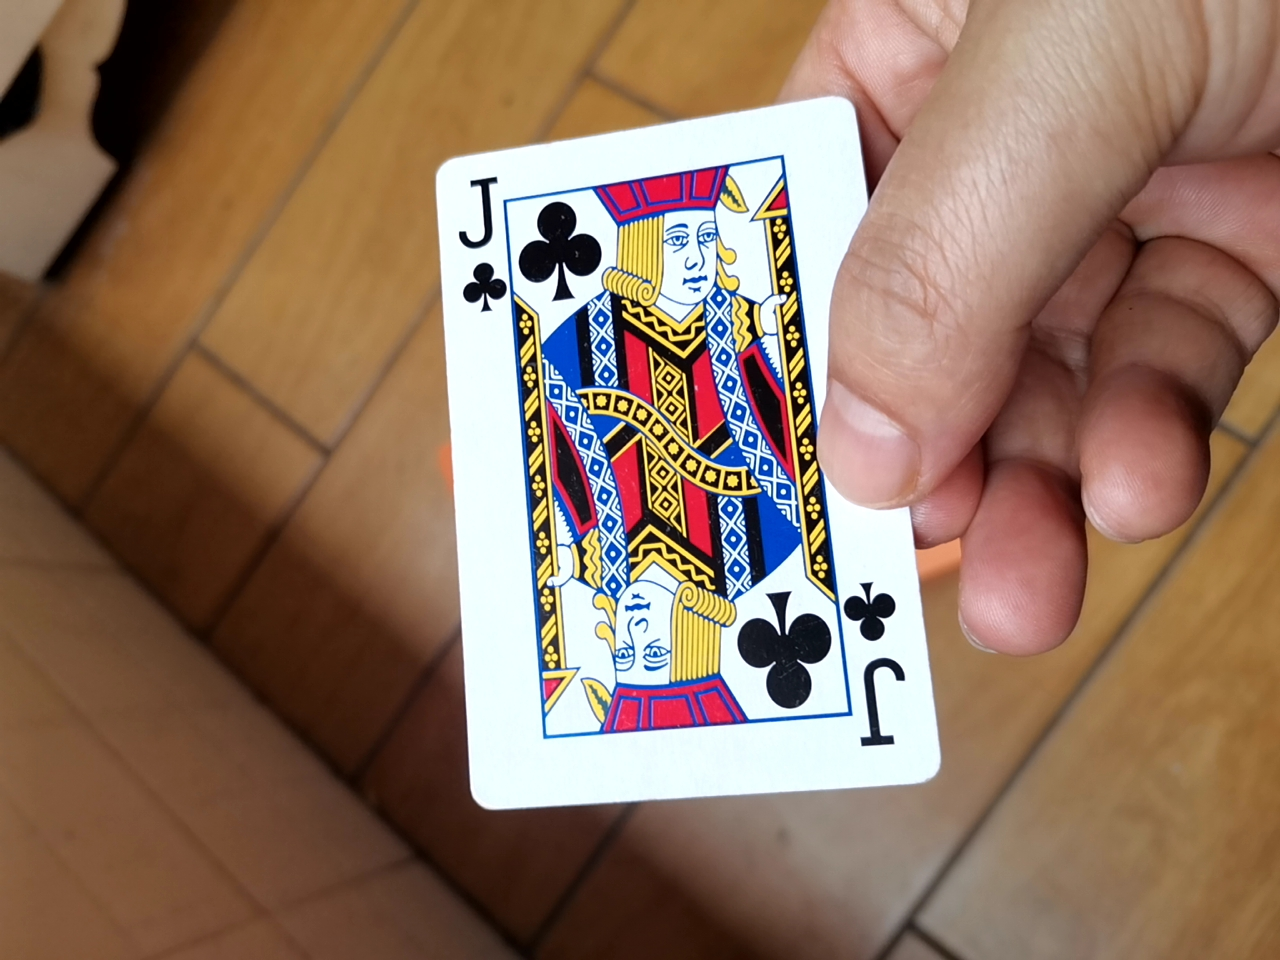mh j: (427, 106, 914, 821)
